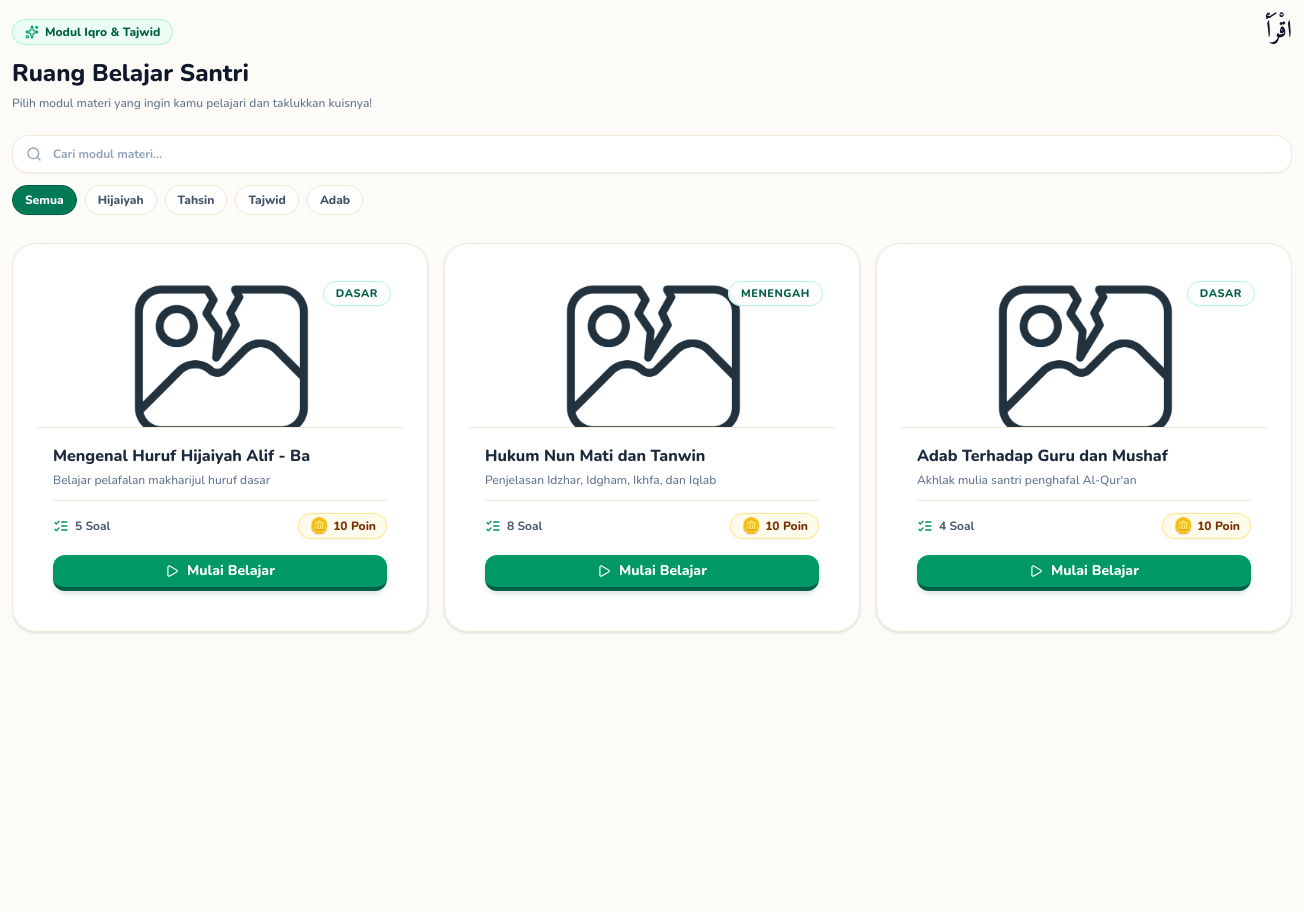
Test: CoursesPage Interactive Filtering › filters courses by search query
The image size is (1304, 912).
Check: the heading "Mengenal Huruf Hijaiyah Alif - Ba" is shown, box 53,445 -> 310,467
In the field with placeholder "Cari modul materi...": (652, 154) 12,135 -> 1292,173, type "Akhlak"
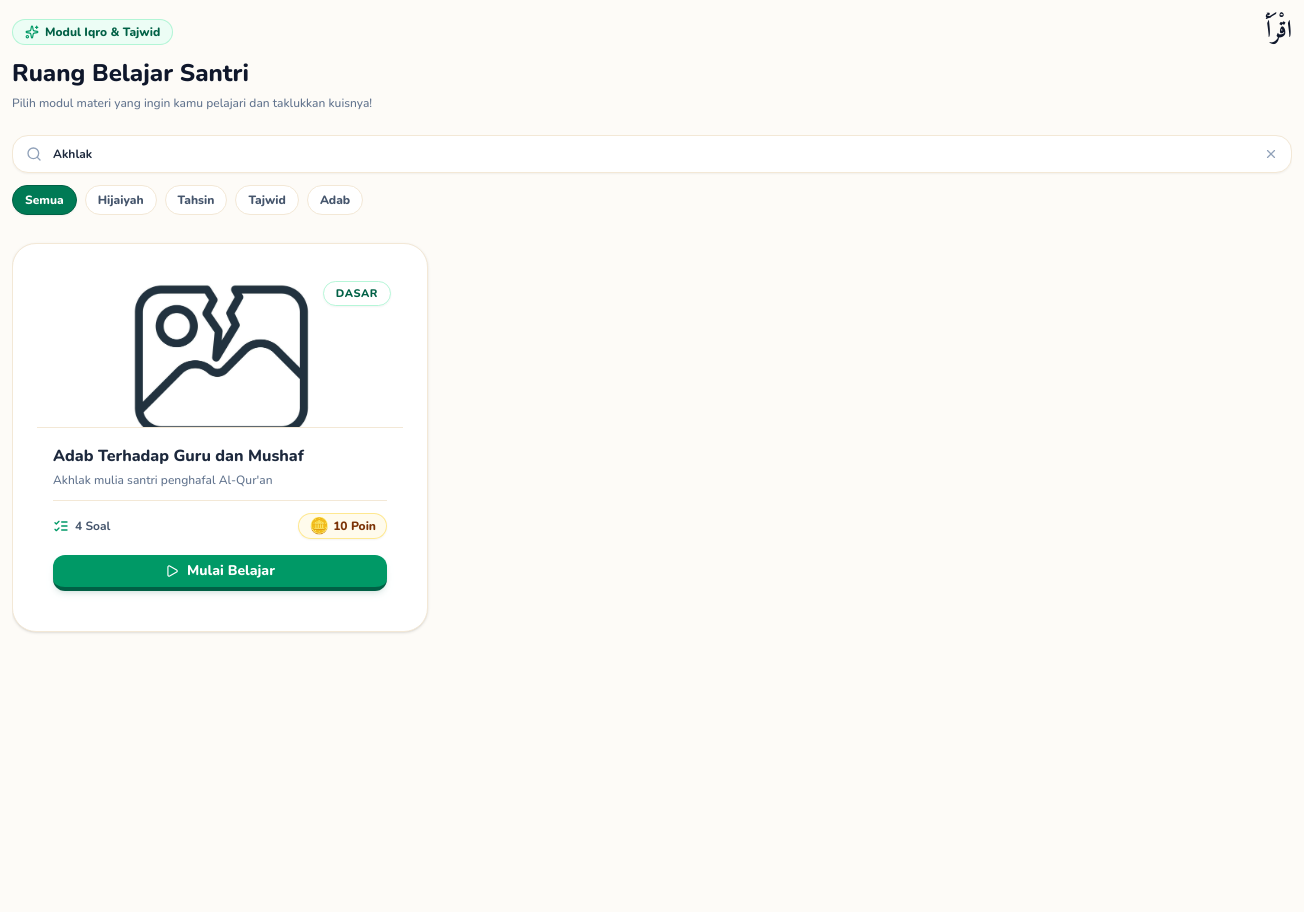
Check: the heading "Adab Terhadap Guru dan Mushaf" is shown, box 53,445 -> 304,467
Check: the heading "Mengenal Huruf Hijaiyah Alif - Ba" is gone
Check: the heading "Hukum Nun Mati dan Tanwin" is gone
